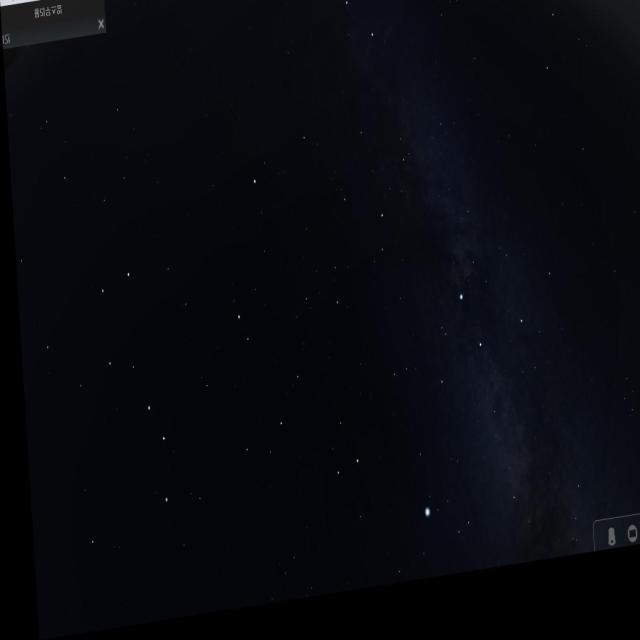cassiopeia: (305, 0, 377, 78)
cygnus: (427, 296, 530, 475)
ursa_major: (80, 263, 177, 519)
